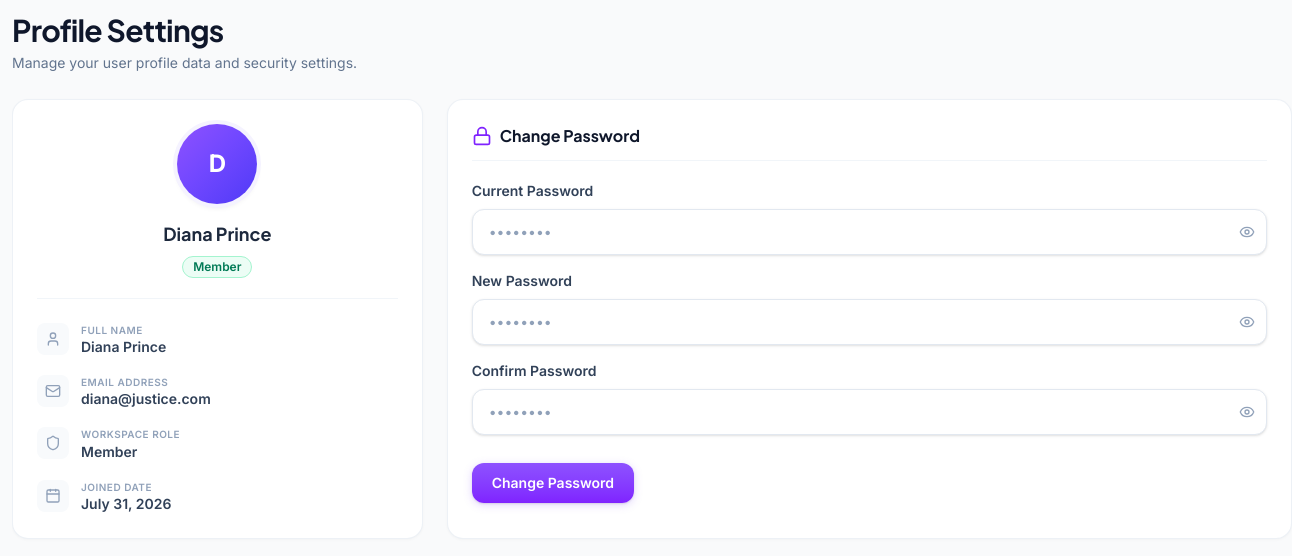
Profile Page › supports updating password successfully
This screenshot has width=1292, height=556.
Type "password123" into the password field labelled "Current Password". click: (869, 232)
box: left=472, top=209, right=1267, bottom=255
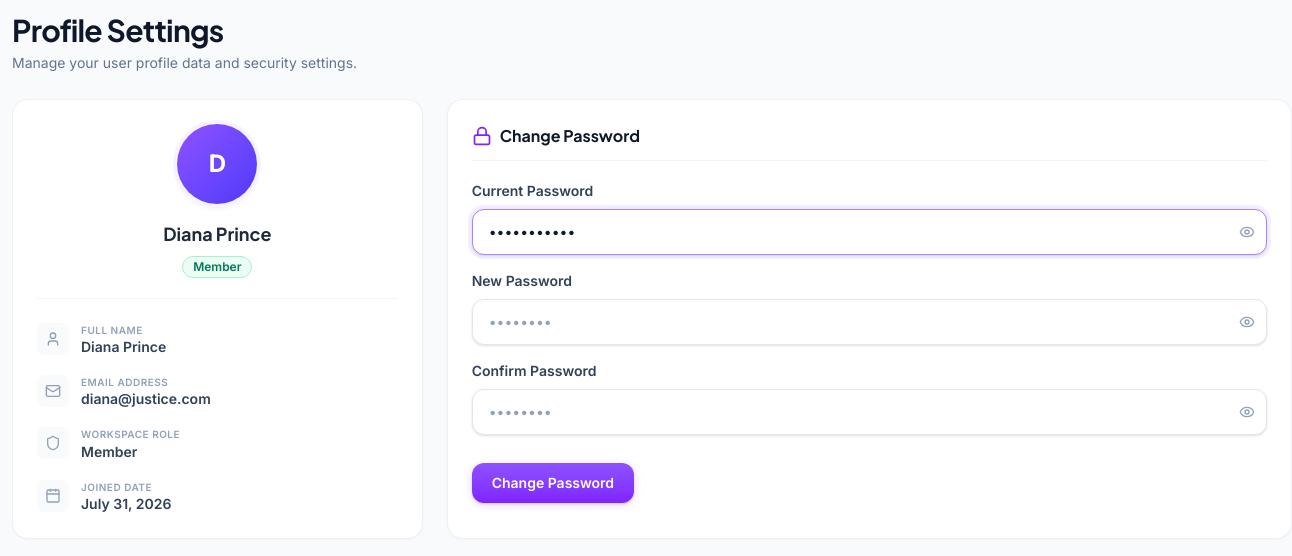
Type "newpassword456" into the password field labelled "New Password". click: (869, 322)
box: left=472, top=299, right=1267, bottom=345
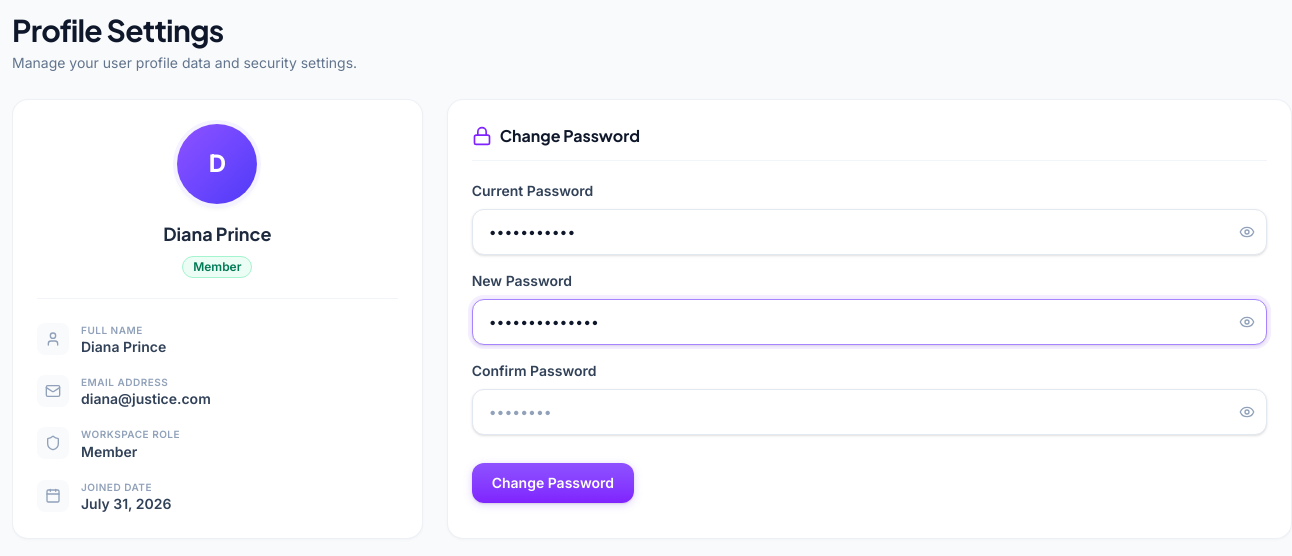
Type "newpassword456" into the password field labelled "Confirm Password". click: (869, 412)
box: left=472, top=389, right=1267, bottom=435
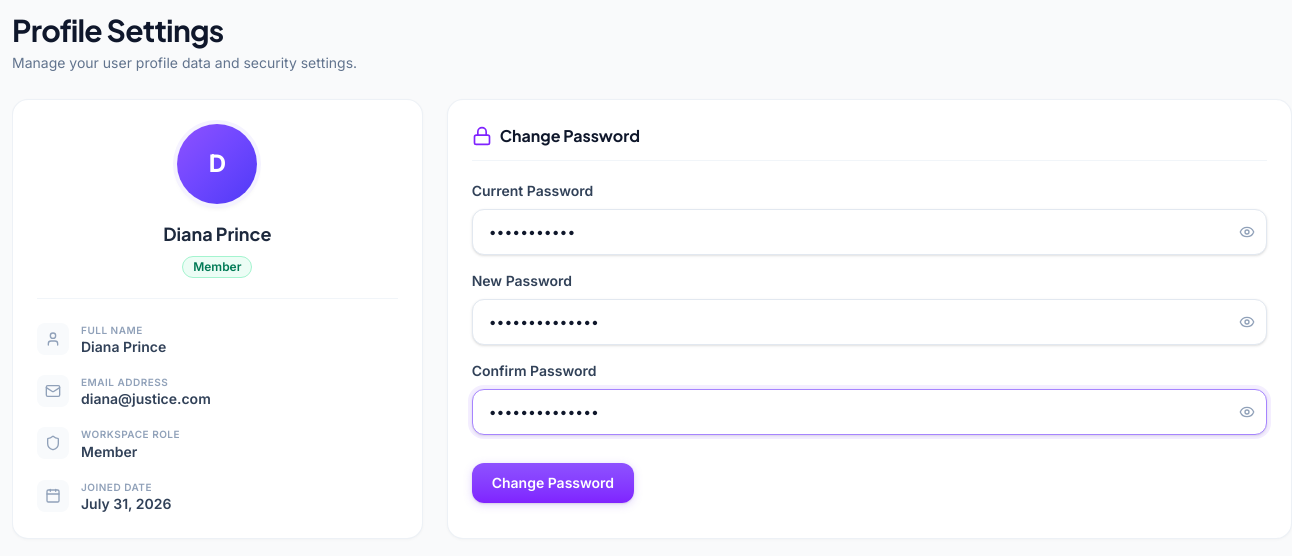
Click the button "Change Password". click: (553, 483)
box: left=472, top=463, right=634, bottom=503
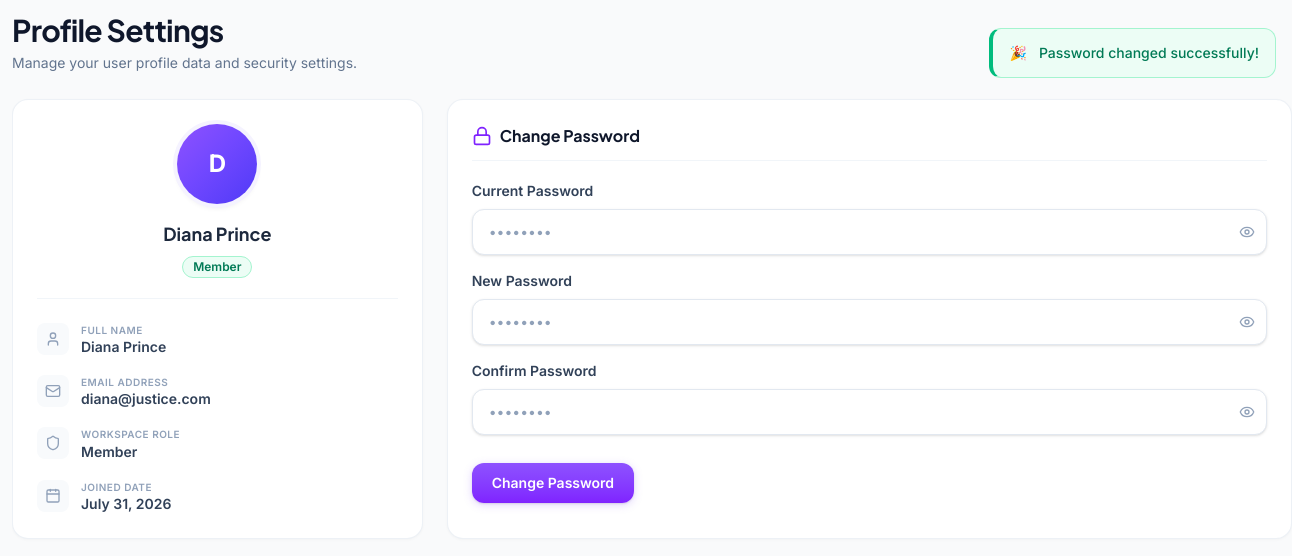
Result: the text "Password changed successfully!" is shown at left=1039, top=43, right=1259, bottom=63
